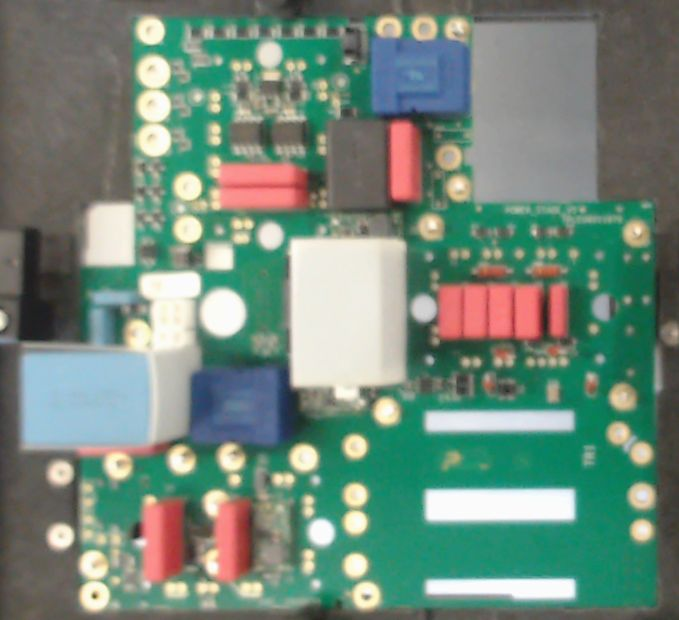comp1: (370, 35, 469, 119), (190, 367, 294, 445)
comp2: (141, 496, 188, 580), (389, 121, 423, 203), (217, 498, 251, 579), (218, 163, 307, 189), (217, 188, 308, 209), (462, 281, 489, 342), (487, 282, 515, 340), (513, 281, 541, 339), (438, 282, 464, 344), (547, 282, 569, 339)
comp3: (324, 119, 390, 211)
comp4: (17, 339, 197, 449), (289, 238, 408, 388)
